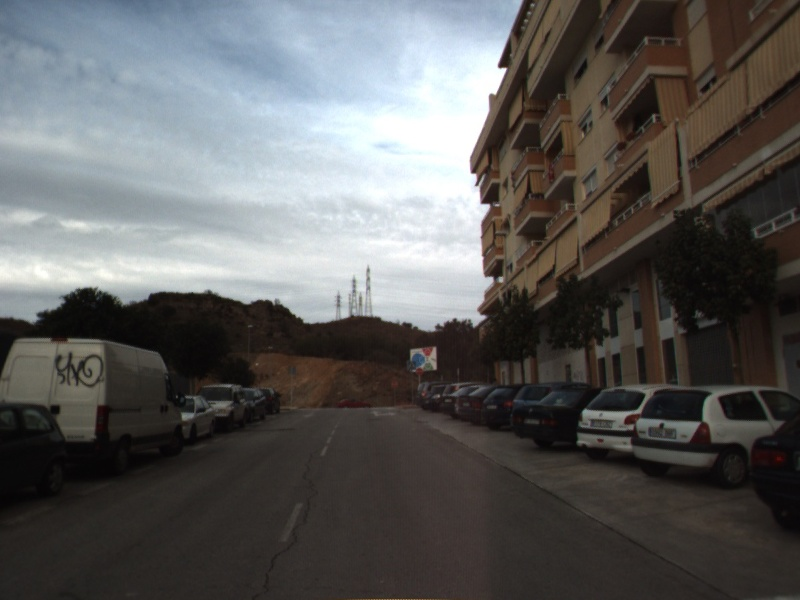STRAIGHT_RIGHT: (367, 408, 398, 418)
